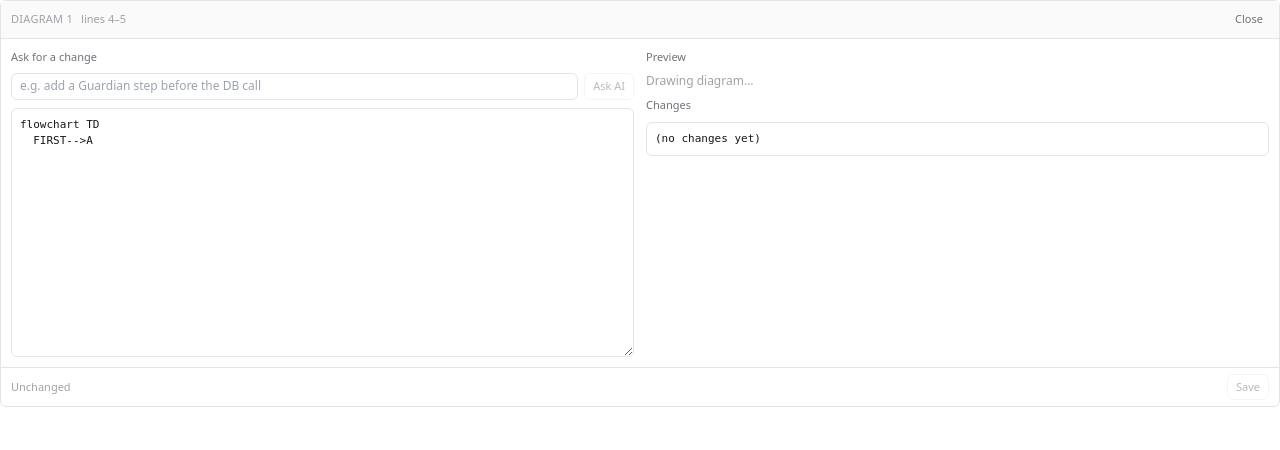
TASK-1943 — the client names the fence it is showing › a 409 is reported as a reload instruction, not as a model failure
Step 1. Type "add a node" into the field with test id "fence-instruction" → [295, 86], box x1=11 y1=73 x2=578 y2=100
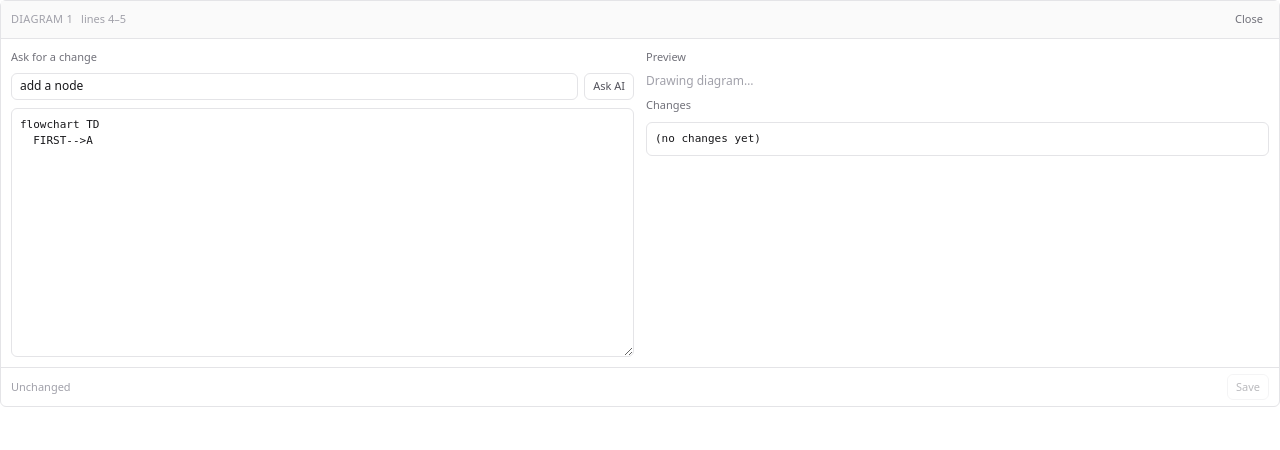
Step 2. Click the button with test id "fence-ask" → [609, 86], box x1=584 y1=73 x2=634 y2=100
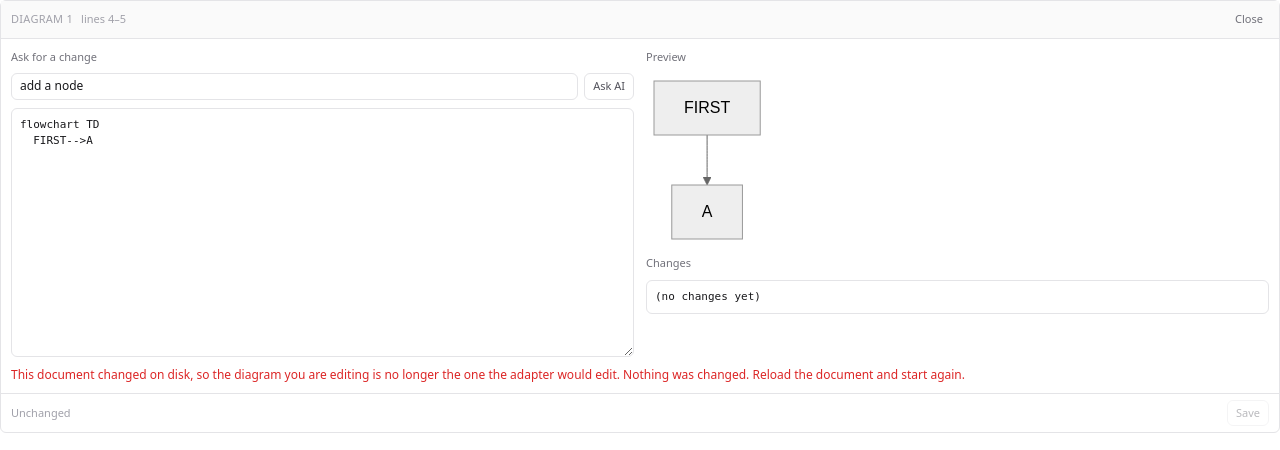
Now the message shows "reload", box x1=11 y1=366 x2=965 y2=382
Now the message shows "nothing was changed", box x1=11 y1=366 x2=965 y2=382
